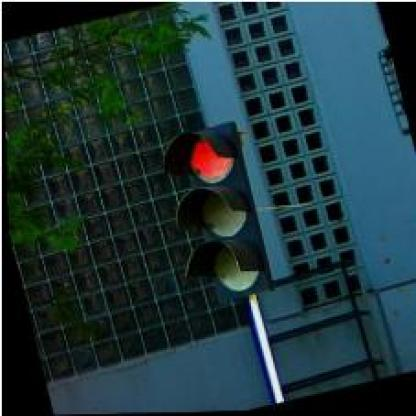red: (154, 119, 275, 310)
